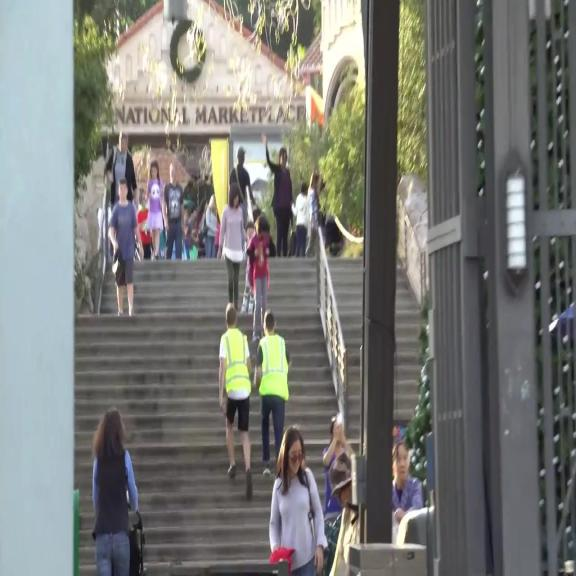safety_vest: (258, 332, 290, 402), (220, 328, 252, 395)
